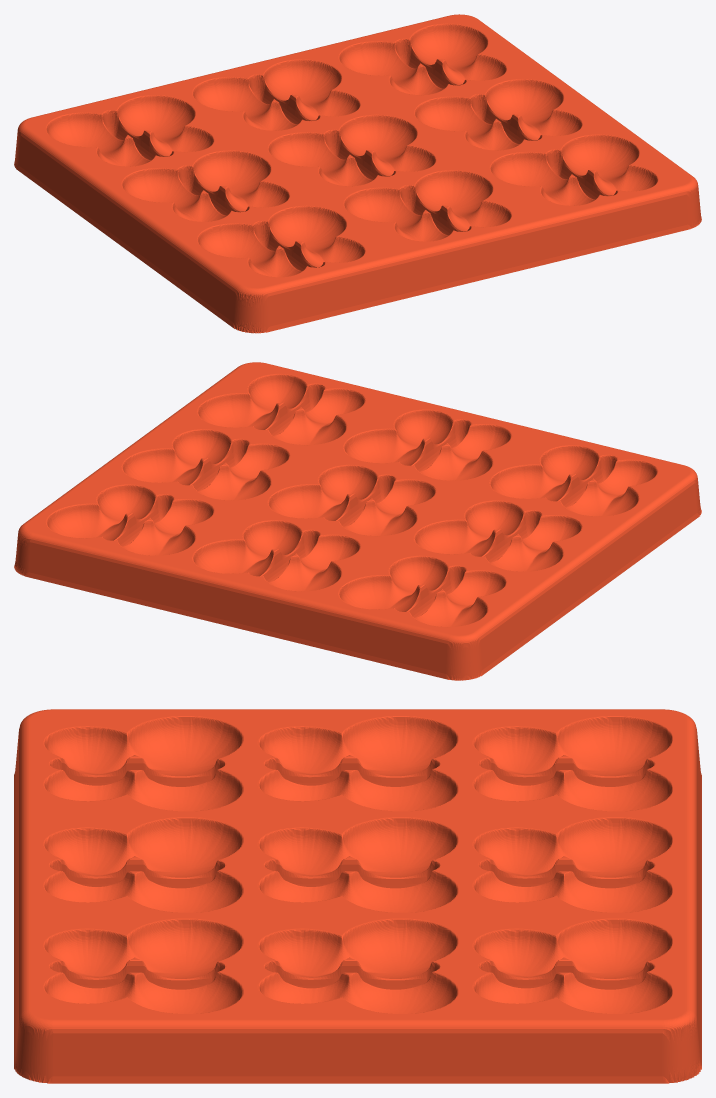
File: mold.glb
The picture shows the model from 3 angles, top to bottom: view 1: azimuth 30°, elevation 25°; view 2: azimuth 150°, elevation 25°; view 3: azimuth 270°, elevation 25°; orthographic projection. The views are drawn at different scales.
Parts seen in each view (by area): view 1: geometry_0; view 2: geometry_0; view 3: geometry_0.
Boxes of the visible parts, x1,y1,x2,y2 form: geometry_0: (14,14,701,333); geometry_0: (14,362,701,680); geometry_0: (14,709,701,1083).
Bounding box in the file's own units: 0.1749 × 0.0145 × 0.1577.
